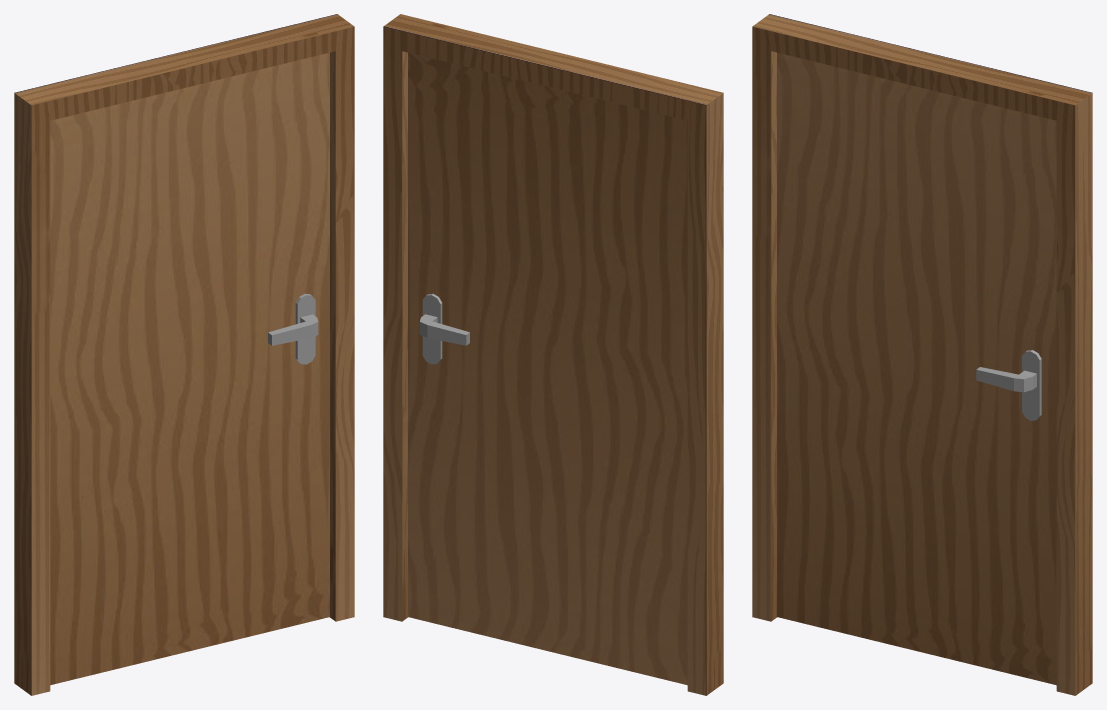
The model's file is DOOR.fbx.
3 renders of one model, left to right at view 1: azimuth 30°, elevation 25°; view 2: azimuth 150°, elevation 25°; view 3: azimuth 330°, elevation 25°, orthographic.
Visible parts, largest first — view 1: Cube.001, Cube, Cube.002; view 2: Cube.001, Cube, Cube.002; view 3: Cube.001, Cube, Cube.002.
Boxes of the visible parts, box(x1,y1,x2,y2) form: Cube.001: box(50, 52, 329, 685); Cube: box(14, 14, 354, 695); Cube.002: box(268, 314, 318, 345); Cube.001: box(408, 52, 687, 685); Cube: box(383, 14, 723, 695); Cube.002: box(419, 314, 469, 345); Cube.001: box(777, 52, 1056, 685); Cube: box(752, 14, 1092, 695); Cube.002: box(976, 367, 1036, 392).
Bounding box in the file's own units: 200 × 349 × 37.14.
